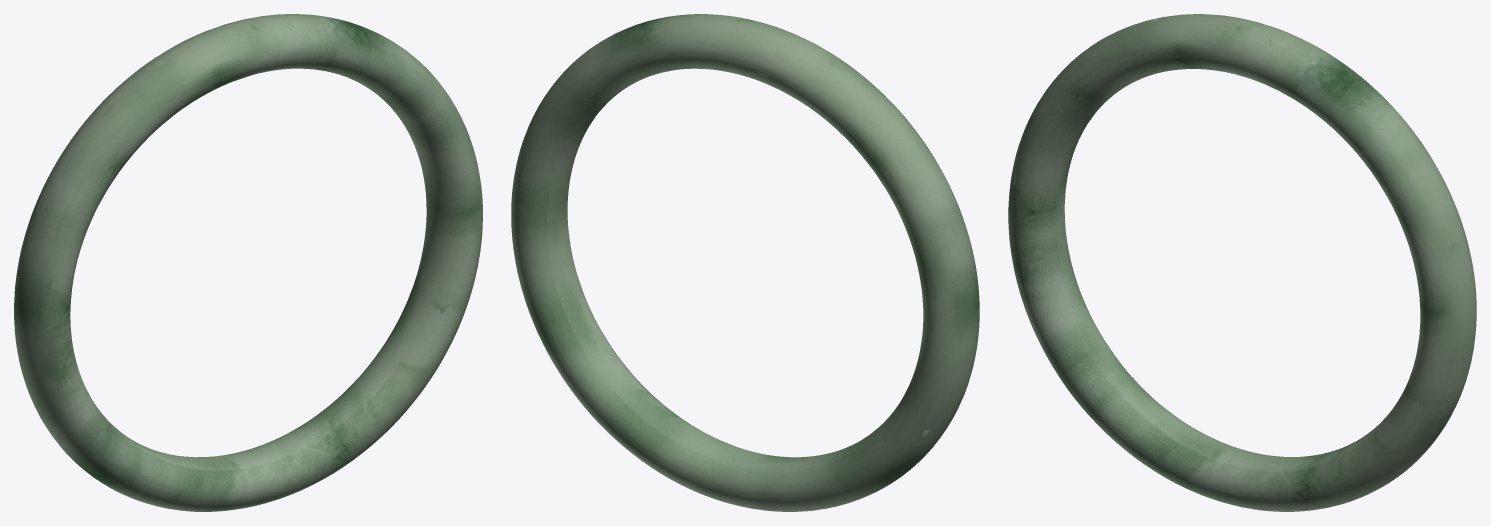
The model's file is ring_jade_game.glb.
3 renders of one model, left to right at view 1: azimuth 30°, elevation 25°; view 2: azimuth 150°, elevation 25°; view 3: azimuth 330°, elevation 25°, orthographic.
Parts seen in each view (by area): view 1: Mesh_0; view 2: Mesh_0; view 3: Mesh_0.
Boxes of the visible parts, <box> form: Mesh_0: <box>14,14,482,511</box>; Mesh_0: <box>511,14,979,511</box>; Mesh_0: <box>1008,14,1476,511</box>.
Bounding box in the file's own units: 2.22 × 2.22 × 0.2791.
1 material, 1 textured.
